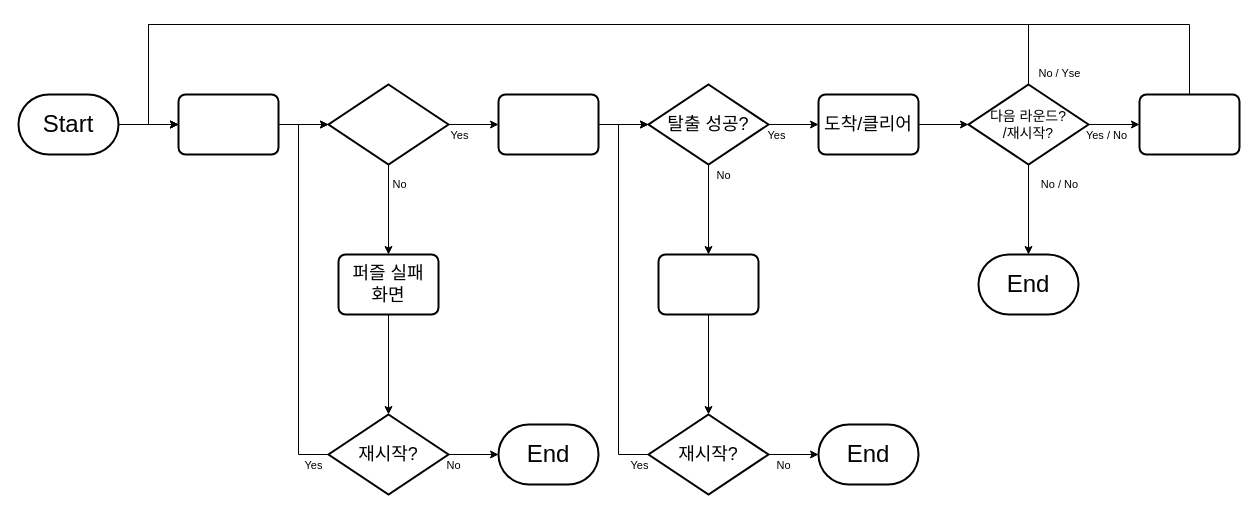
The diagram is 1257 pixels wide and 513 high, and some of its shapes have lost their labels. The shapes that lost their labels are listed below. From the top down, each one's box as (x1, y1, x2, y2) in pixels, then its label:
(177, 93, 279, 155): 퍼즐 요소
(327, 83, 449, 165): 퍼즐 성공?
(497, 93, 599, 155): 탈출 요소
(1138, 93, 1240, 155): 다음 라운드 씬 전환
(657, 253, 759, 315): 탈출 실패 화면
